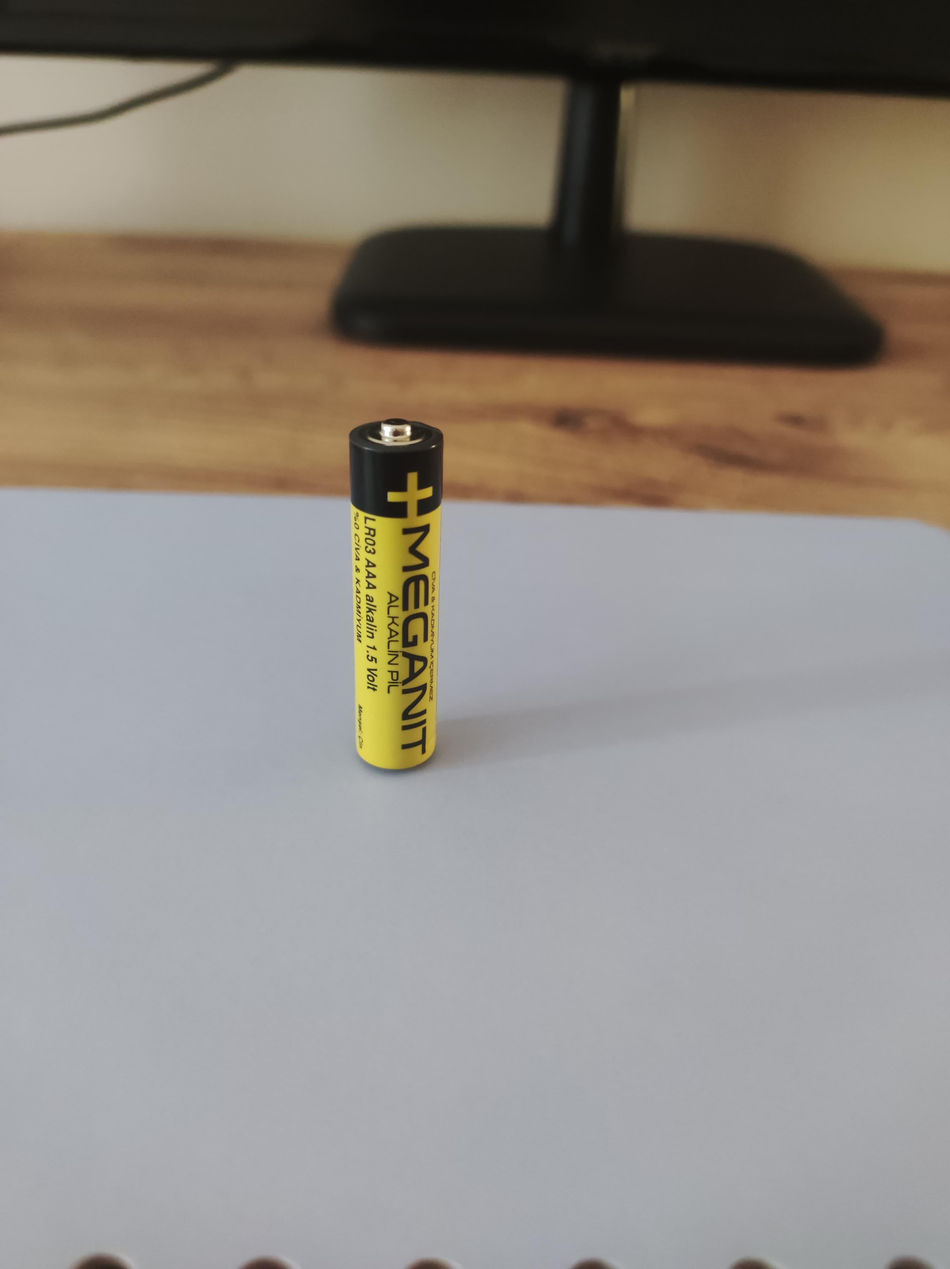AAA: (347, 417, 444, 770)
